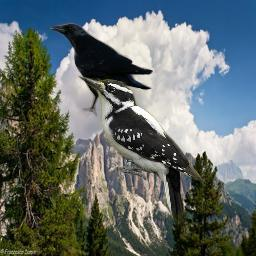Crow: (49, 22, 153, 117)
Woodpecker: (77, 71, 202, 234)
